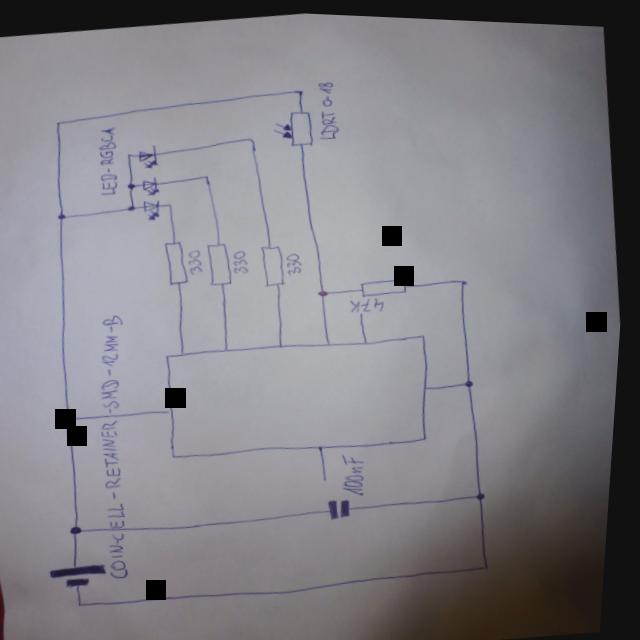capacitor: (331, 493, 359, 519)
diode: (135, 141, 161, 170), (141, 196, 165, 221), (139, 172, 163, 197)
junction: (61, 408, 84, 427), (70, 522, 91, 538), (465, 373, 479, 385), (478, 487, 492, 497), (318, 286, 332, 296), (125, 180, 137, 191), (56, 211, 68, 221), (127, 203, 137, 212), (81, 599, 92, 607), (460, 275, 471, 282), (52, 120, 63, 127), (166, 200, 175, 208), (294, 86, 303, 94), (247, 134, 256, 142), (487, 560, 496, 567), (202, 172, 210, 179), (125, 151, 132, 159)
resistor: (268, 105, 317, 149), (161, 237, 194, 286), (257, 240, 290, 287), (204, 240, 237, 286), (360, 272, 411, 296)
source: (52, 558, 115, 591)
text: (83, 312, 159, 580), (91, 124, 125, 197), (310, 77, 344, 139), (339, 448, 376, 496), (348, 291, 389, 312), (230, 247, 253, 275), (186, 246, 206, 275), (285, 249, 306, 275)
